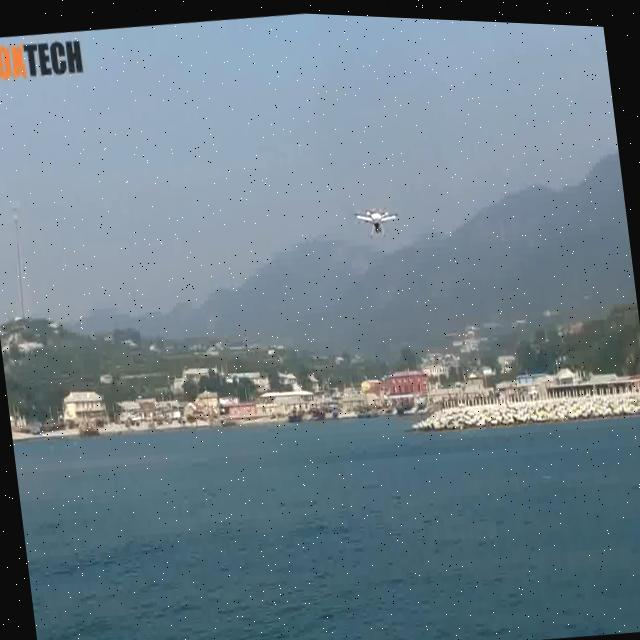drone: (342, 188, 409, 248)
